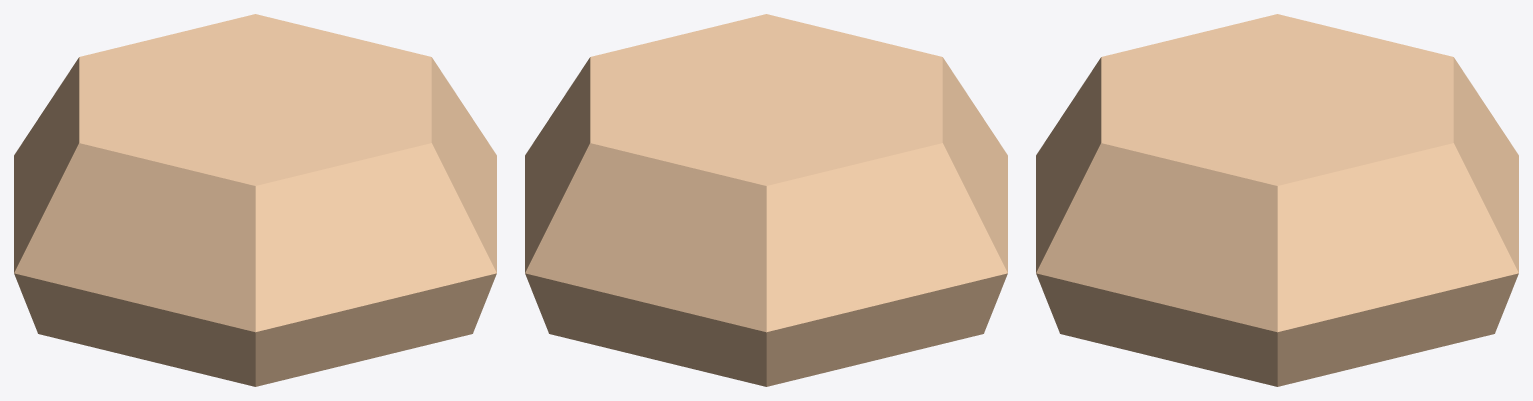
File: rock_small7.fbx
3 views of the same model, side by side, from view 1: azimuth 30°, elevation 25°; view 2: azimuth 150°, elevation 25°; view 3: azimuth 270°, elevation 25° (orthographic).
Parts seen in each view (by area): view 1: rock_small7; view 2: rock_small7; view 3: rock_small7.
Boxes of the visible parts, <box> form: rock_small7: <box>14,14,496,386</box>; rock_small7: <box>525,14,1007,386</box>; rock_small7: <box>1036,14,1518,386</box>.
Size of the model in its own units: 206 by 73.6 by 178.
